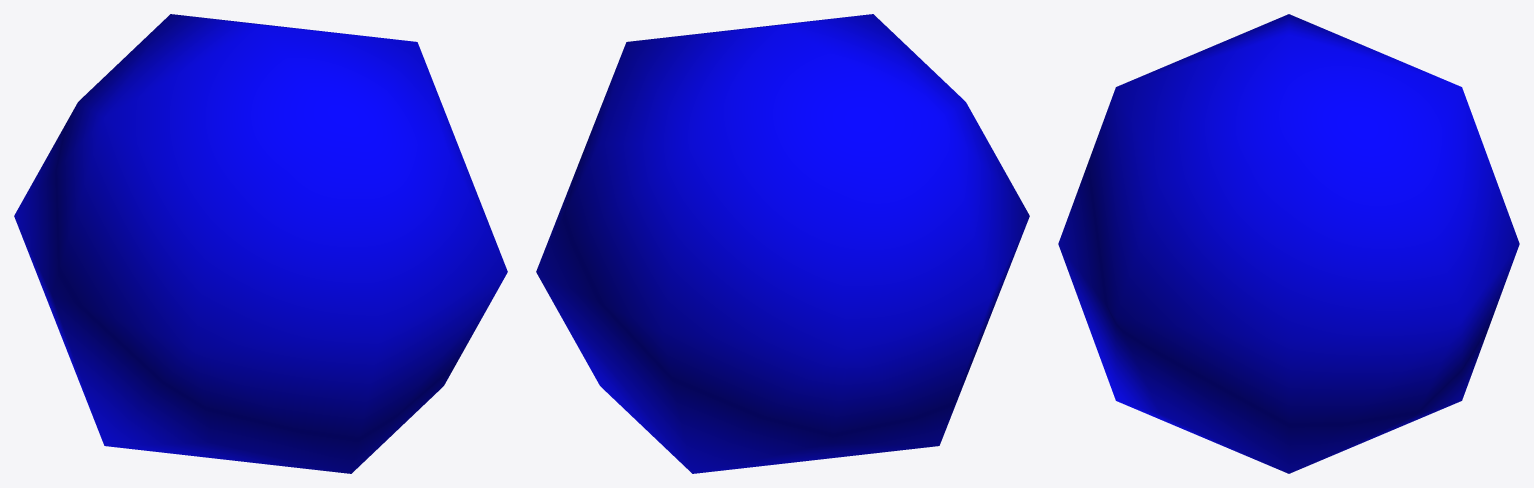
The model's file is lightningBoltPowerUp.fbx.
3 views of the same model, side by side, from view 1: azimuth 30°, elevation 25°; view 2: azimuth 150°, elevation 25°; view 3: azimuth 270°, elevation 25° (orthographic). The views are drawn at different scales.
Visible parts, largest first — view 1: pCube4; view 2: pCube4; view 3: pCube4.
Part boxes in pixels (x1,y1,x2,y2): pCube4: [14, 14, 507, 473]; pCube4: [536, 14, 1029, 473]; pCube4: [1058, 14, 1519, 473].
Size of the model in its own units: 5.32 by 5.32 by 5.32.
